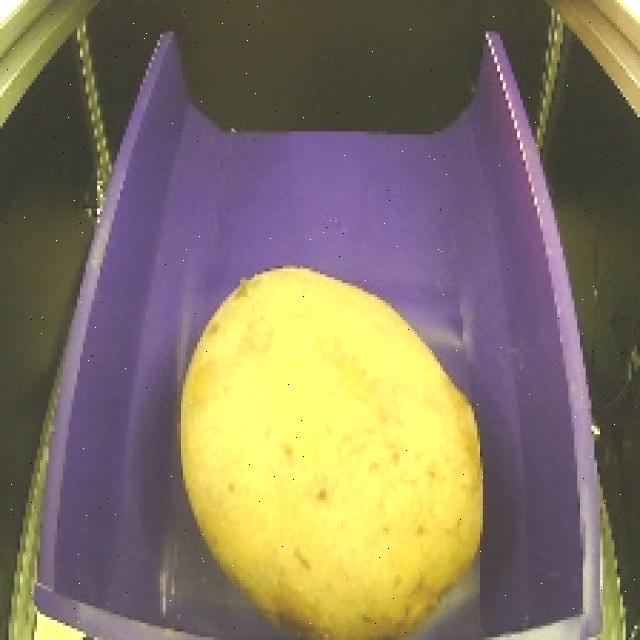full_potato: (161, 248, 496, 640)
